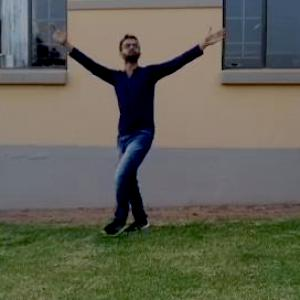takeoff: (43, 21, 217, 245)
